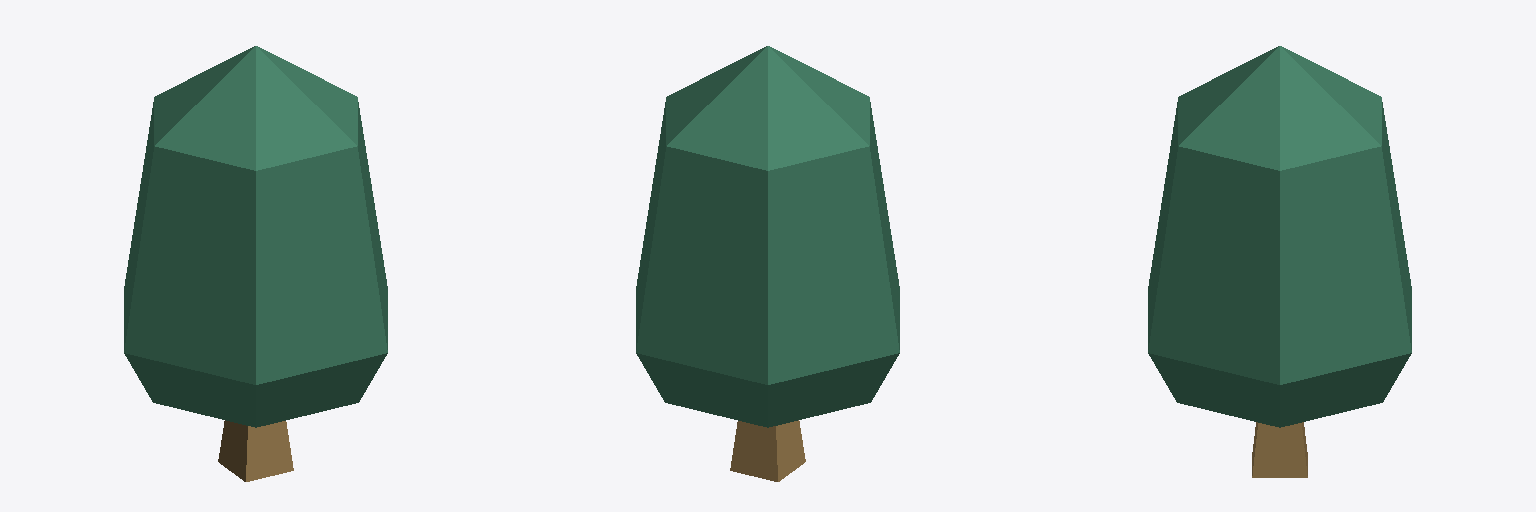
File: LargeOakGreen.obj
3 renders of one model, left to right at view 1: azimuth 30°, elevation 25°; view 2: azimuth 150°, elevation 25°; view 3: azimuth 270°, elevation 25°, orthographic.
Parts seen in each view (by area): view 1: Mesh1_Large_Oak_Green_Model; view 2: Mesh1_Large_Oak_Green_Model; view 3: Mesh1_Large_Oak_Green_Model.
Part boxes in pixels (left/top/right/bottom): Mesh1_Large_Oak_Green_Model: left=124, top=46, right=387, bottom=481; Mesh1_Large_Oak_Green_Model: left=636, top=46, right=899, bottom=481; Mesh1_Large_Oak_Green_Model: left=1148, top=46, right=1411, bottom=477.
Size of the model in its own units: 3.02 by 4.6 by 2.62.